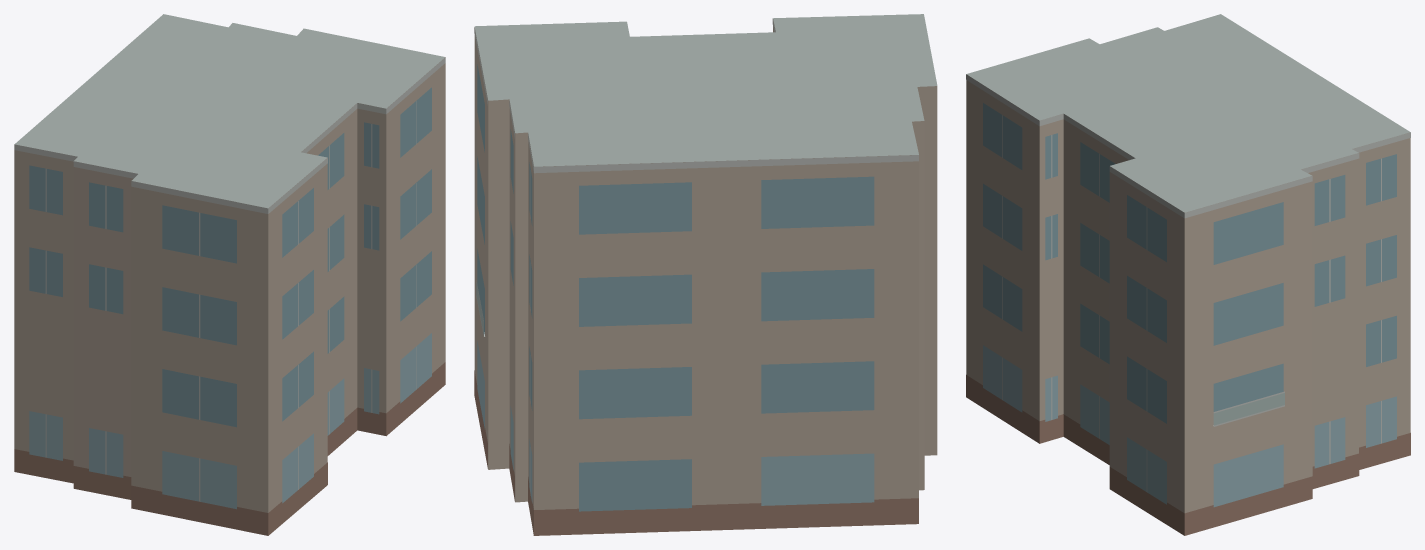
The model's file is survey-upis-32749883.glb.
3 renders of one model, left to right at view 1: azimuth 30°, elevation 25°; view 2: azimuth 150°, elevation 25°; view 3: azimuth 270°, elevation 25°, orthographic. The views are drawn at different scales.
Parts seen in each view (by area): view 1: survey-upis-32749883.tmp; view 2: survey-upis-32749883.tmp; view 3: survey-upis-32749883.tmp.
Part boxes in pixels (left/top/right/bottom): survey-upis-32749883.tmp: left=14, top=14, right=445, bottom=535; survey-upis-32749883.tmp: left=474, top=14, right=937, bottom=535; survey-upis-32749883.tmp: left=966, top=14, right=1410, bottom=535.
Size of the model in its own units: 18.35 by 13.9 by 17.34.
